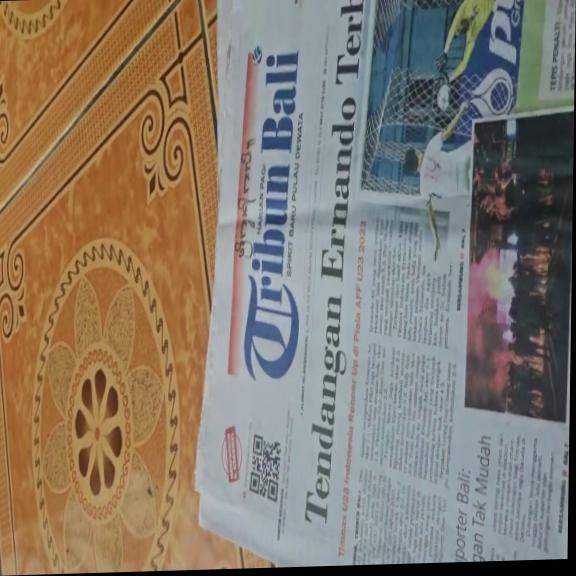Kertas: (201, 0, 571, 570)
